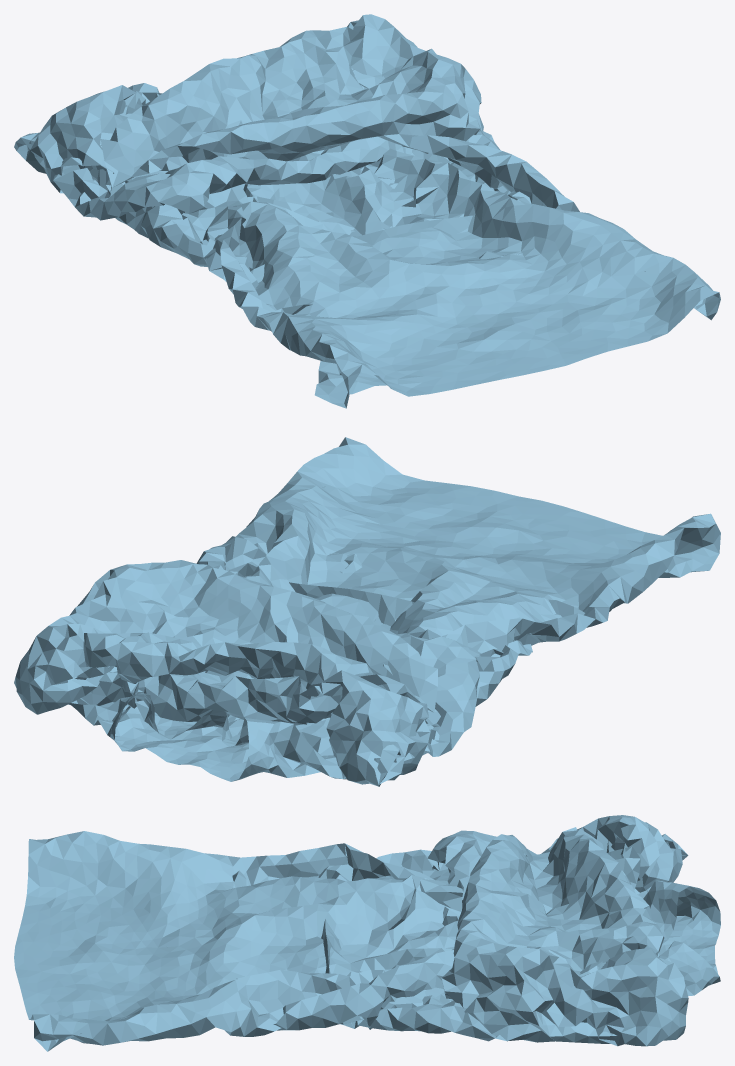
Rendered from frame_20.glb.
The picture shows the model from 3 angles, top to bottom: view 1: azimuth 30°, elevation 25°; view 2: azimuth 150°, elevation 25°; view 3: azimuth 270°, elevation 25°; orthographic projection. The views are drawn at different scales.
Parts seen in each view (by area): view 1: frame_20.obj; view 2: frame_20.obj; view 3: frame_20.obj.
Boxes of the visible parts, <box> form: frame_20.obj: <box>14,14,720,408</box>; frame_20.obj: <box>14,437,720,786</box>; frame_20.obj: <box>14,815,720,1051</box>.
Bounding box in the file's own units: 0.9083 × 0.2139 × 1.43.
